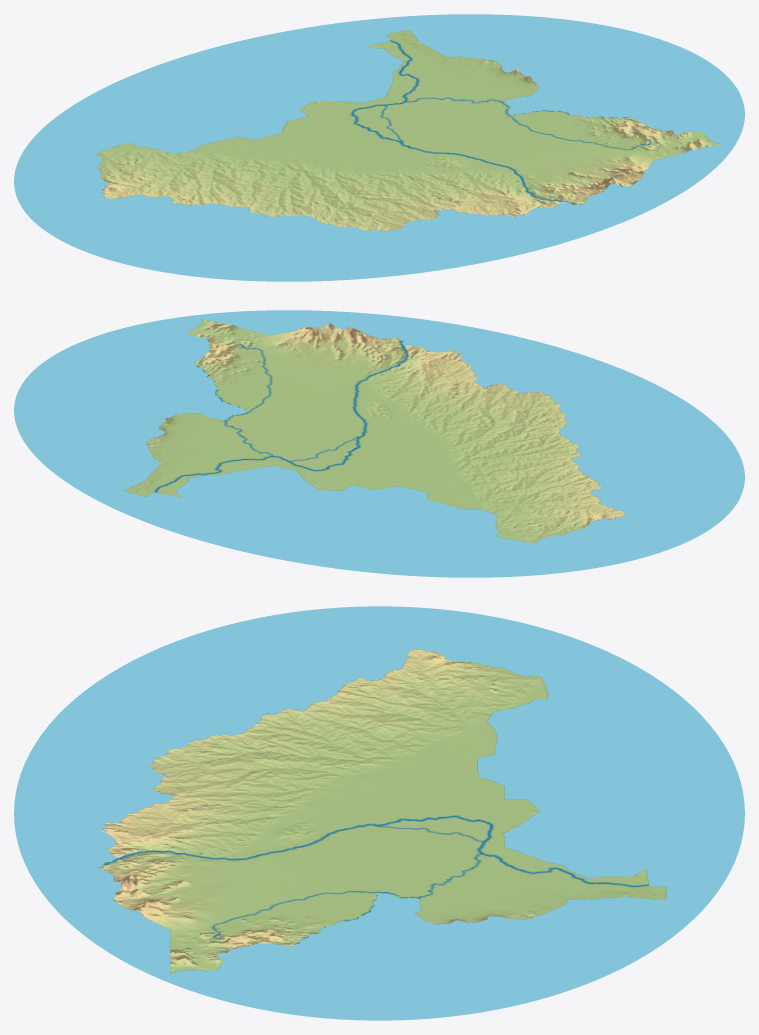
File: SDS-terrain.glb
3 views of the same model, one above another, from view 1: azimuth 30°, elevation 25°; view 2: azimuth 150°, elevation 25°; view 3: azimuth 270°, elevation 25° (orthographic). The views are drawn at different scales.
Parts seen in each view (by area): view 1: Relevo com hidrografia; view 2: Relevo com hidrografia; view 3: Relevo com hidrografia.
Part boxes in pixels (x1,y1,x2,y2): Relevo com hidrografia: (14, 14, 744, 281); Relevo com hidrografia: (14, 310, 744, 577); Relevo com hidrografia: (14, 606, 744, 1020).
Bounding box in the file's own units: 2.07 × 0.03 × 1.54.
Materials: 2 (1 with a texture image).
